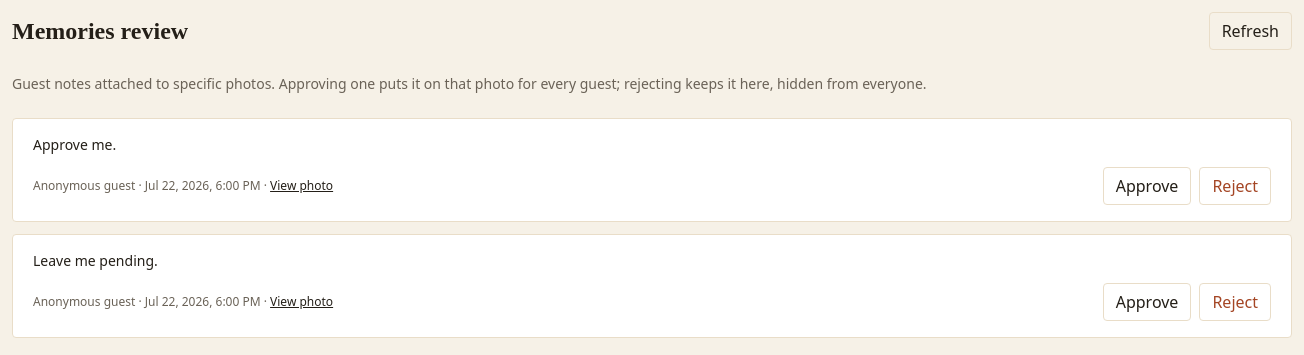
MemoriesReviewQueue › posts an approval and removes the decided row
Click the 1st button "Approve": (1147, 186) x1=1103 y1=167 x2=1191 y2=205
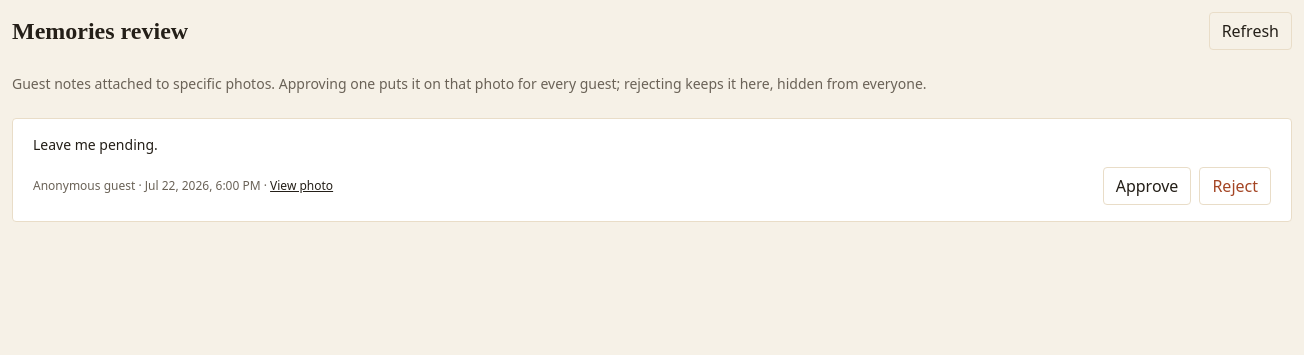
Expected: the text "Leave me pending." is shown, x1=33 y1=135 x2=158 y2=154
Now the text "Approve me." is gone
